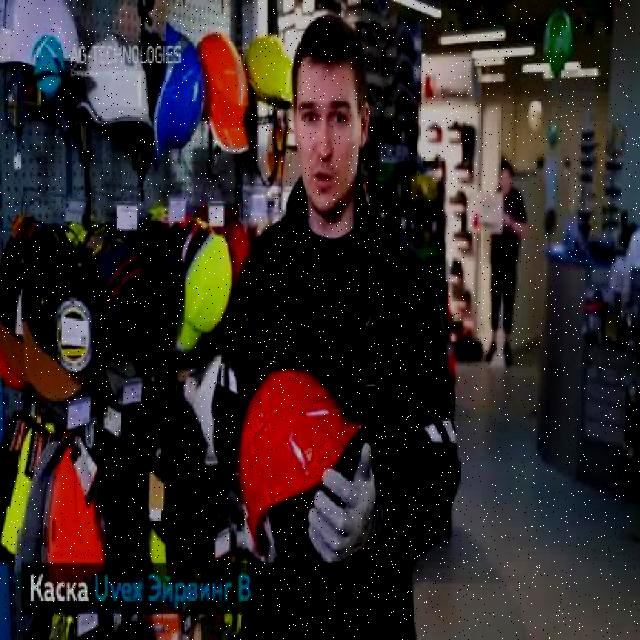Gloves: (304, 442, 380, 568)
Helmet: (238, 367, 366, 556), (149, 19, 209, 170), (75, 30, 156, 135), (198, 30, 256, 156), (0, 0, 92, 74), (244, 32, 296, 111)
